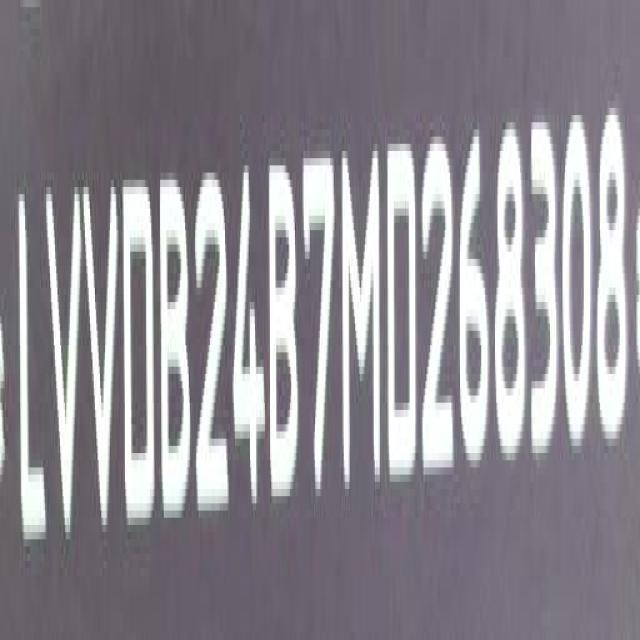0: (561, 104, 594, 476)
2: (191, 165, 234, 529), (420, 128, 456, 472)
3: (530, 112, 560, 459)
4: (231, 165, 267, 522)
6: (456, 133, 488, 472)
7: (301, 150, 336, 526)
8: (489, 128, 526, 461), (596, 99, 628, 443)
B: (158, 174, 194, 518), (268, 159, 302, 522)
D: (117, 168, 157, 522), (384, 125, 420, 493)
L: (17, 171, 50, 554)
M: (340, 153, 383, 490)
V: (41, 173, 83, 533), (81, 179, 121, 536)
